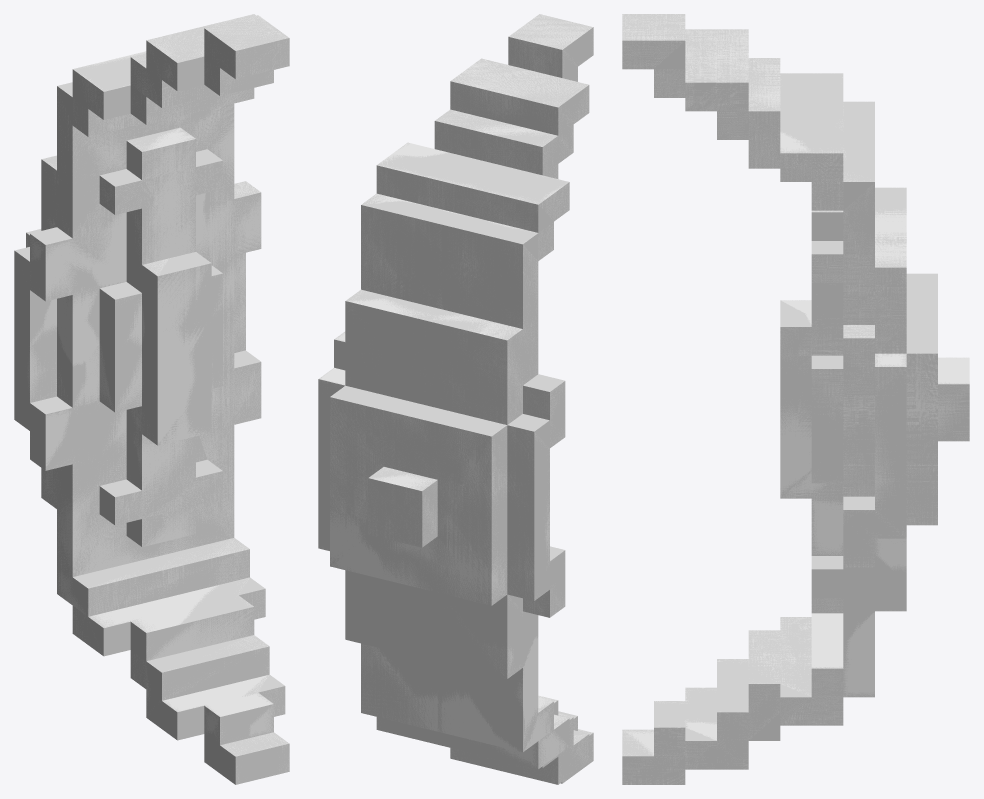
The model's file is Attack.fbx.
3 views of the same model, side by side, from view 1: azimuth 30°, elevation 25°; view 2: azimuth 150°, elevation 25°; view 3: azimuth 270°, elevation 25° (orthographic).
Visible parts, largest first — view 1: Attack, Attack_Backup; view 2: Attack, Attack_Backup; view 3: Attack, Attack_Backup.
Boxes of the visible parts, bbox=[...] form: Attack: bbox=[14, 14, 289, 784]; Attack_Backup: bbox=[14, 14, 289, 784]; Attack: bbox=[318, 14, 593, 784]; Attack_Backup: bbox=[318, 14, 593, 783]; Attack: bbox=[622, 14, 969, 784]; Attack_Backup: bbox=[622, 14, 969, 784].
Bounding box in the file's own units: 80 × 260 × 110.
Materials: 2 (1 with a texture image).
